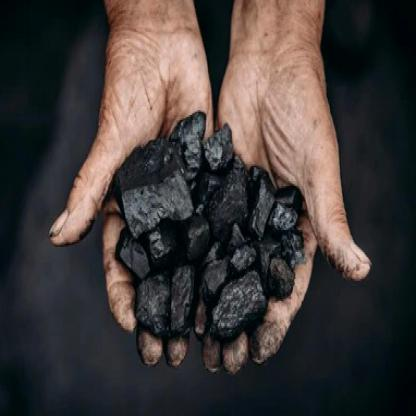Sedimentary_coal: (121, 166, 195, 238), (203, 259, 269, 328), (173, 105, 210, 186), (159, 255, 193, 333), (198, 120, 233, 186), (266, 180, 304, 228), (250, 168, 272, 233)
